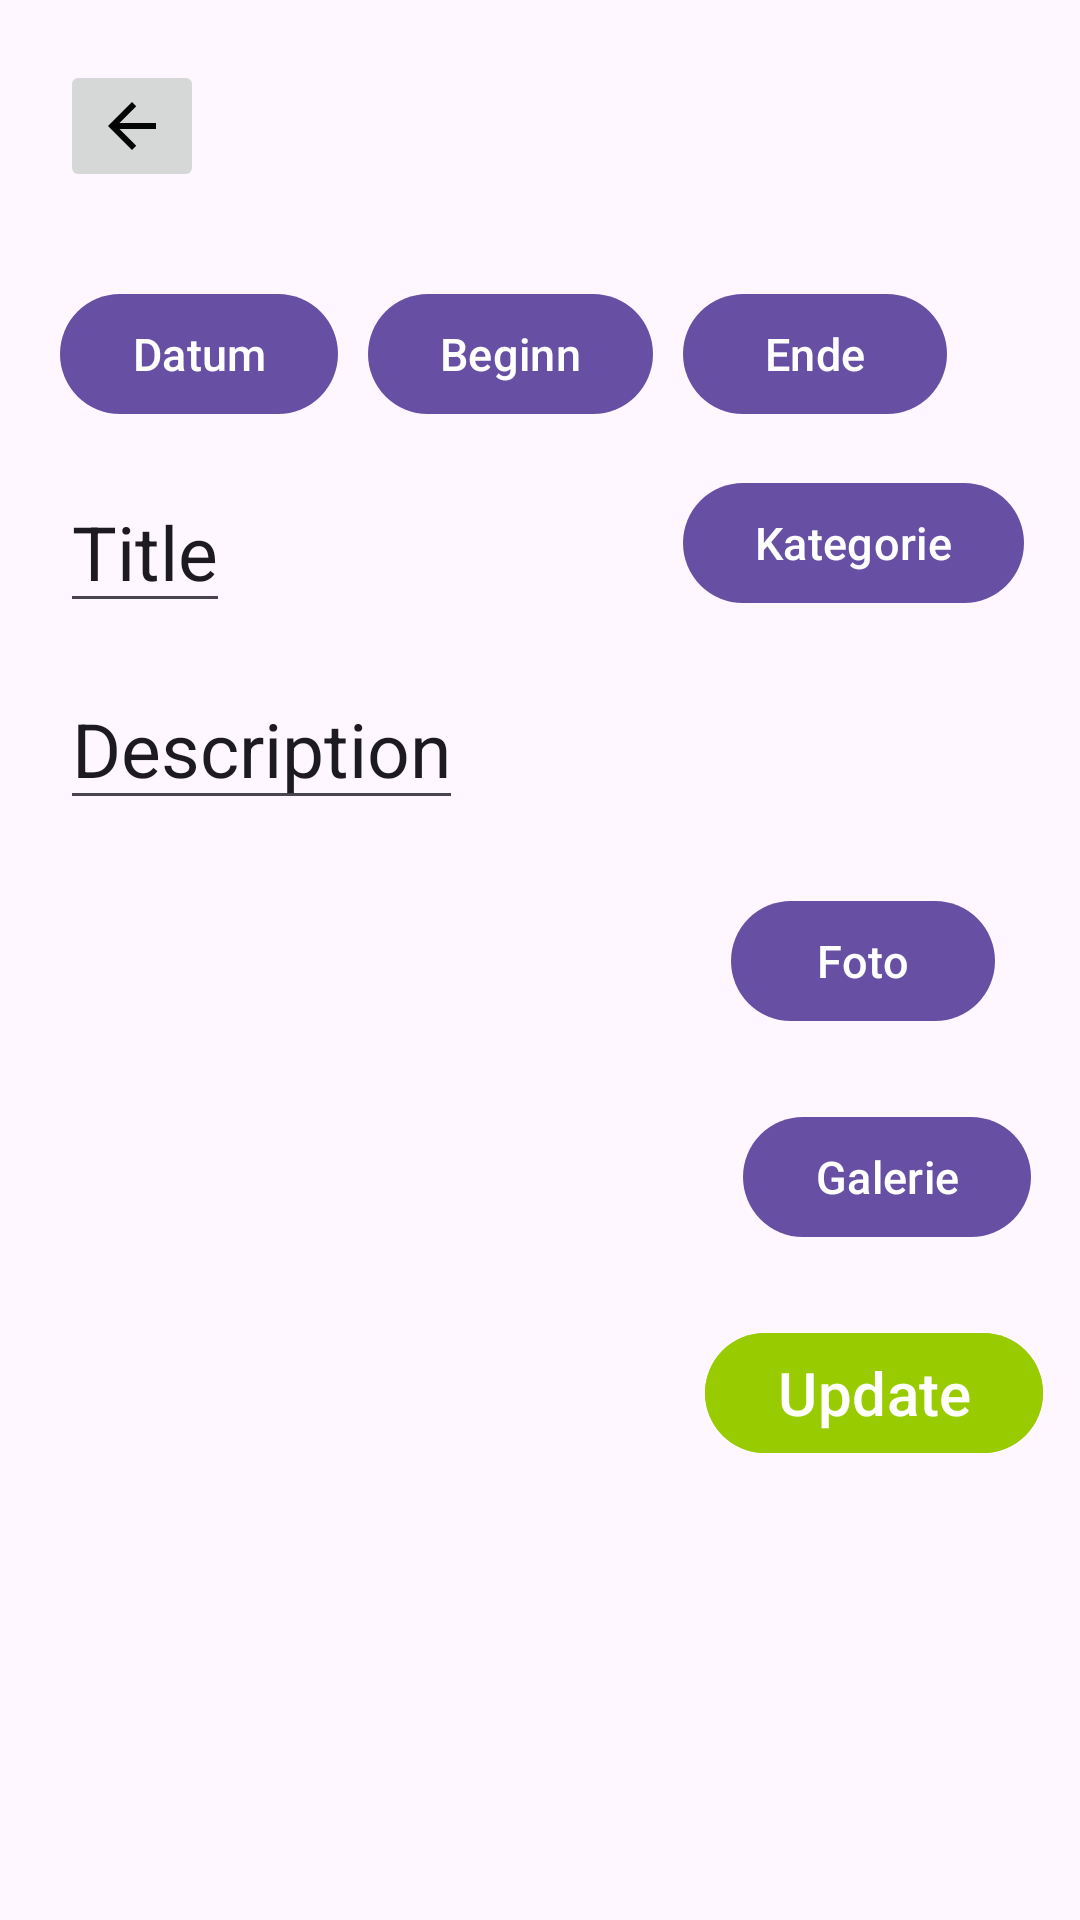

Point at icon controls on the screen. Image size 1080 x 1920, points as (x,y).
back: (132,126)
